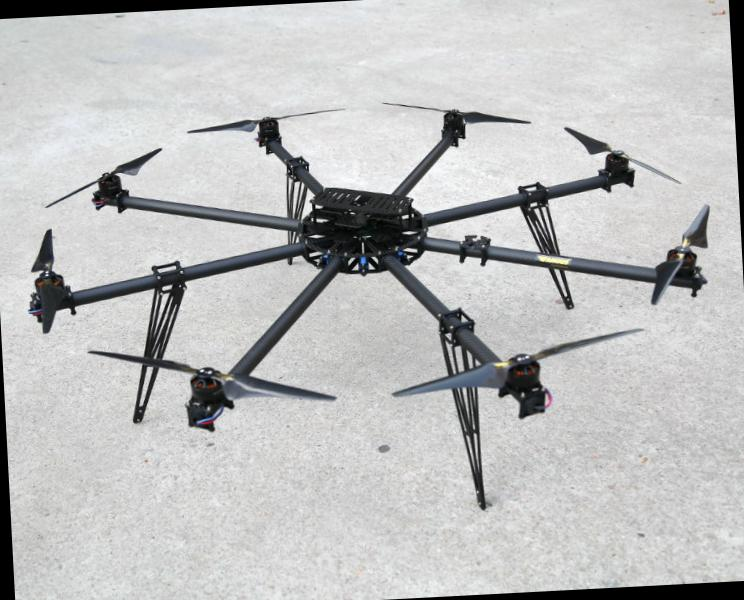drone: (2, 70, 734, 502)
